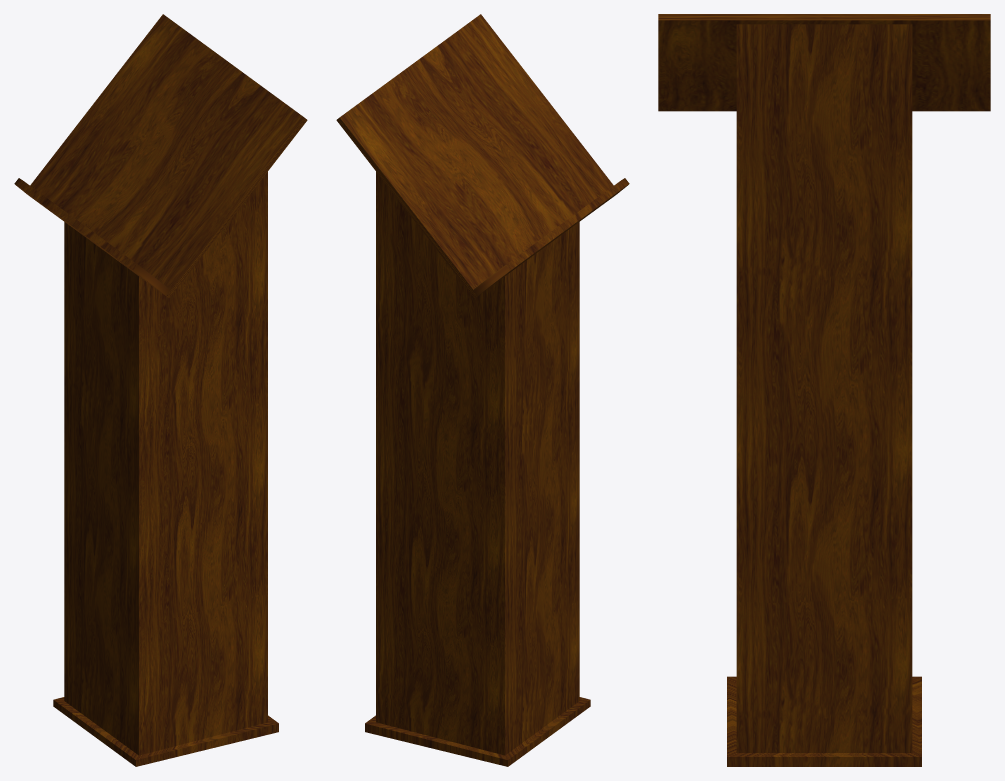
Rendered from lectern.fbx.
3 renders of one model, left to right at view 1: azimuth 30°, elevation 25°; view 2: azimuth 150°, elevation 25°; view 3: azimuth 270°, elevation 25°, orthographic. The views are drawn at different scales.
Visible parts, largest first — view 1: lectern; view 2: lectern; view 3: lectern.
Boxes of the visible parts, x1,y1,x2,y2 form: lectern: (14,14,307,766); lectern: (336,14,629,766); lectern: (658,14,990,766).
Size of the model in its own units: 33.1 by 124 by 50.
